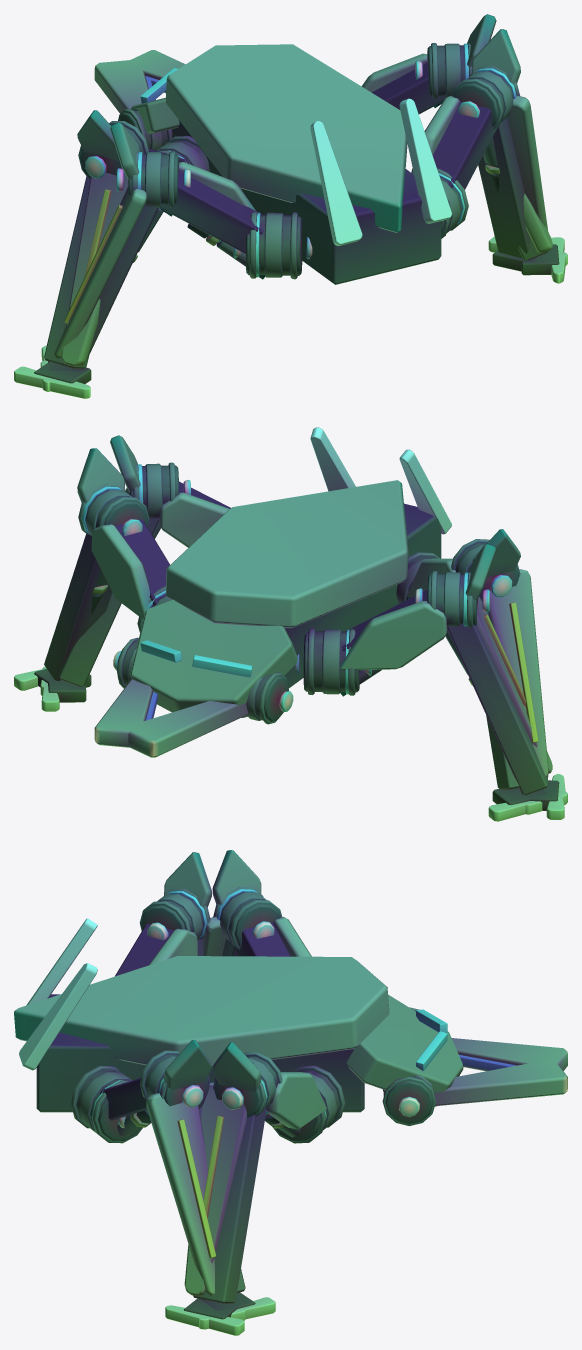
The model's file is ling.glb.
The picture shows the model from 3 angles, top to bottom: view 1: azimuth 30°, elevation 25°; view 2: azimuth 150°, elevation 25°; view 3: azimuth 270°, elevation 25°; orthographic projection.
Parts seen in each view (by area): view 1: Body__armor, Body__dark, Body__hazard, Hip_3_Knee__gunmetal, Hip_2__dark, Hip_2_Knee__gunmetal, Hip_0_Knee__armor, Hip_2_Knee__armor, Hip_3__dark, Hip_3_Knee__armor, Hip_0_Knee__gunmetal, Hip_2__gunmetal (+26 smaller); view 2: Body__armor, Body__armor_sub, Hip_0_Knee__gunmetal, Hip_1_Knee__gunmetal, Hip_0__armor, Body__dark, Hip_2_Knee__armor, Jaw_0__armor, Hip_3_Knee__gunmetal, Hip_1__armor, Body__hazard, Jaw_1__armor (+25 smaller); view 3: Body__armor, Body__dark, Body__armor_sub, Hip_1_Knee__gunmetal, Hip_3_Knee__armor, Hip_1_Knee__armor, Jaw_1__armor, Body__hazard, Hip_1__armor, Hip_3__dark, Jaw_0__armor, Hip_3__gunmetal (+24 smaller).
Part boxes in pixels (left/top/right/bottom): Body__armor: left=165, top=44, right=407, bottom=232; Body__dark: left=172, top=120, right=441, bottom=284; Body__hazard: left=310, top=98, right=451, bottom=245; Hip_3_Knee__gunmetal: left=451, top=66, right=529, bottom=258; Hip_2__dark: left=159, top=171, right=302, bottom=279; Hip_2_Knee__gunmetal: left=86, top=151, right=175, bottom=360; Hip_0_Knee__armor: left=61, top=172, right=128, bottom=366; Hip_2_Knee__armor: left=54, top=187, right=147, bottom=358; Hip_3__dark: left=432, top=102, right=498, bottom=232; Hip_3_Knee__armor: left=507, top=96, right=547, bottom=230; Hip_0_Knee__gunmetal: left=44, top=121, right=148, bottom=368; Hip_2__gunmetal: left=216, top=211, right=298, bottom=279; Body__armor: left=165, top=480, right=408, bottom=628; Body__armor_sub: left=130, top=599, right=297, bottom=717; Hip_0_Knee__gunmetal: left=430, top=571, right=548, bottom=795; Hip_1_Knee__gunmetal: left=44, top=484, right=149, bottom=680; Hip_0__armor: left=340, top=601, right=446, bottom=670; Body__dark: left=284, top=490, right=441, bottom=688; Hip_2_Knee__armor: left=488, top=569, right=548, bottom=776; Jaw_0__armor: left=126, top=701, right=248, bottom=757; Hip_3_Knee__gunmetal: left=58, top=462, right=175, bottom=686; Hip_1__armor: left=91, top=524, right=149, bottom=618; Body__hazard: left=310, top=427, right=451, bottom=534; Jaw_1__armor: left=94, top=679, right=153, bottom=747; Body__armor: left=14, top=956, right=389, bottom=1067; Body__dark: left=36, top=994, right=364, bottom=1112; Body__armor_sub: left=346, top=994, right=463, bottom=1106; Hip_1_Knee__gunmetal: left=193, top=1052, right=282, bottom=1303; Hip_3_Knee__armor: left=146, top=1093, right=214, bottom=1295; Hip_1_Knee__armor: left=184, top=1082, right=246, bottom=1296; Jaw_1__armor: left=435, top=1059, right=567, bottom=1106; Body__hazard: left=19, top=918, right=97, bottom=1070; Hip_1__armor: left=266, top=1072, right=326, bottom=1129; Hip_3__dark: left=76, top=1070, right=147, bottom=1141; Jaw_0__armor: left=451, top=1038, right=567, bottom=1071; Hip_3__gunmetal: left=71, top=1066, right=142, bottom=1143.
Bounding box in the file's own units: 1.71 × 0.7715 × 1.49.
